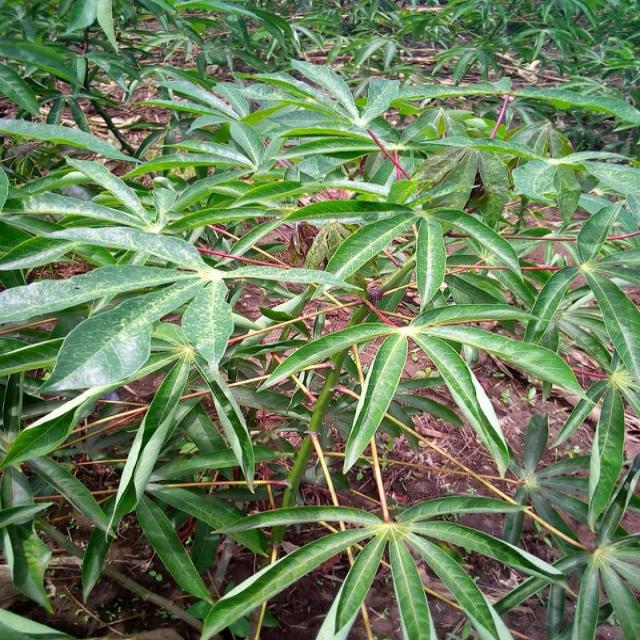cassava leaf: (2, 52, 639, 637), (342, 328, 410, 474)
